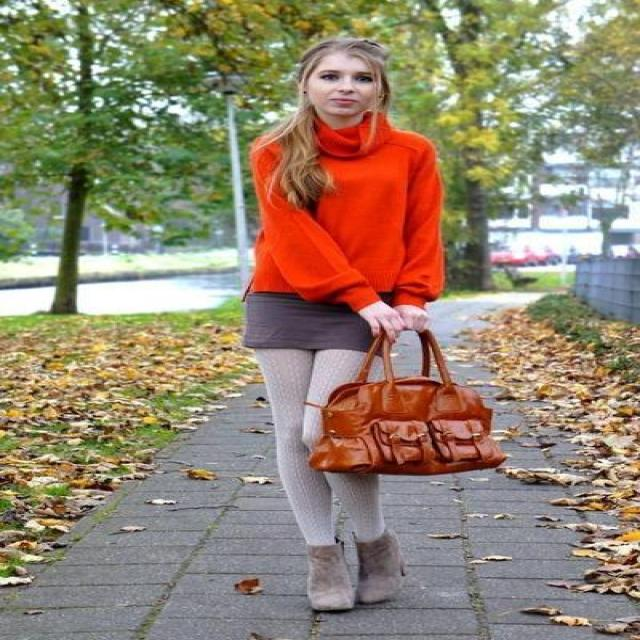bag: (308, 324, 506, 475)
pants: (250, 349, 387, 546)
shirt: (248, 110, 443, 331)
shoe: (306, 535, 394, 607)
skirt: (242, 289, 378, 370)
